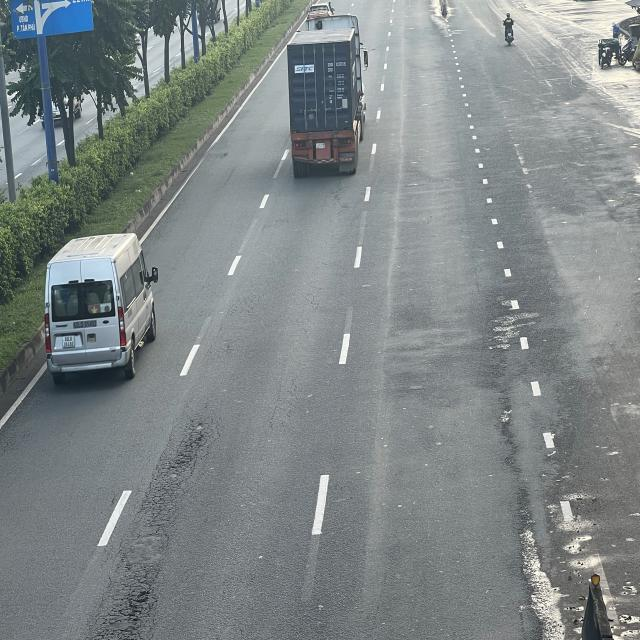container: (289, 13, 369, 175)
van: (43, 231, 158, 379)
